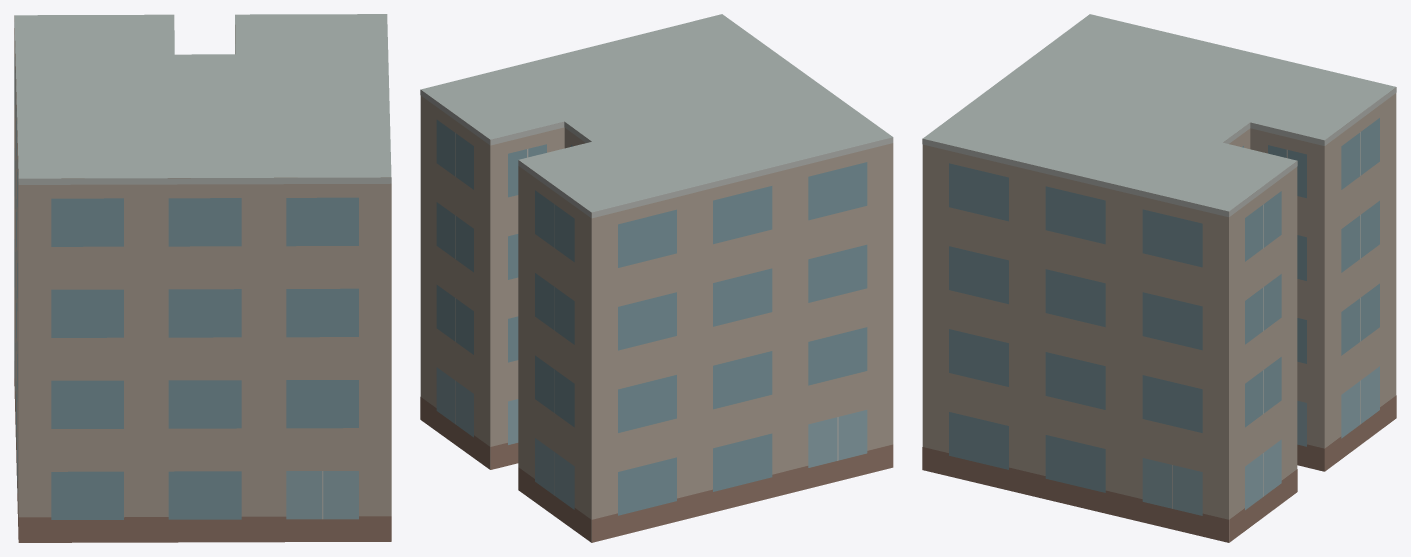
Rendered from survey-upis-32706583.glb.
3 renders of one model, left to right at view 1: azimuth 30°, elevation 25°; view 2: azimuth 150°, elevation 25°; view 3: azimuth 270°, elevation 25°, orthographic. The views are drawn at different scales.
Visible parts, largest first — view 1: survey-upis-32706583.tmp; view 2: survey-upis-32706583.tmp; view 3: survey-upis-32706583.tmp.
Part boxes in pixels (x1,y1,x2,y2): survey-upis-32706583.tmp: [14, 14, 391, 542]; survey-upis-32706583.tmp: [420, 14, 893, 542]; survey-upis-32706583.tmp: [922, 14, 1396, 542].
Bounding box in the file's own units: 17.78 × 13.9 × 18.02.
